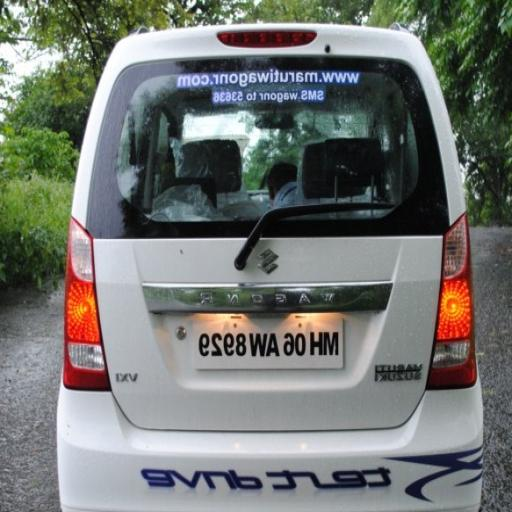License: (197, 314, 341, 376)
